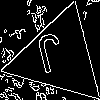J: (33, 32, 69, 83)
